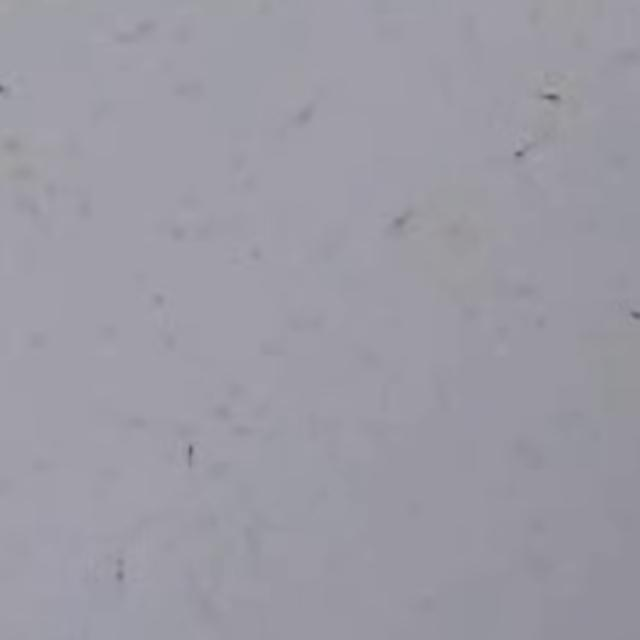shrimp-seed: (496, 132, 557, 172), (384, 194, 426, 237), (172, 425, 204, 470), (521, 75, 569, 104)
